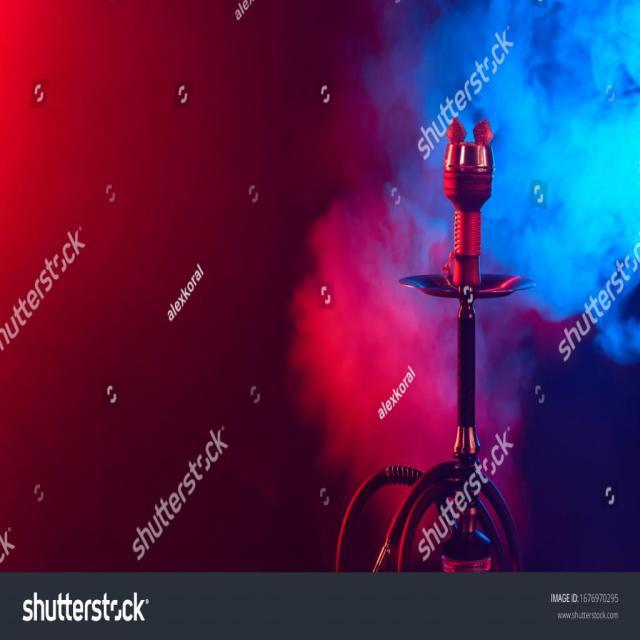smoking: (336, 113, 541, 579)
